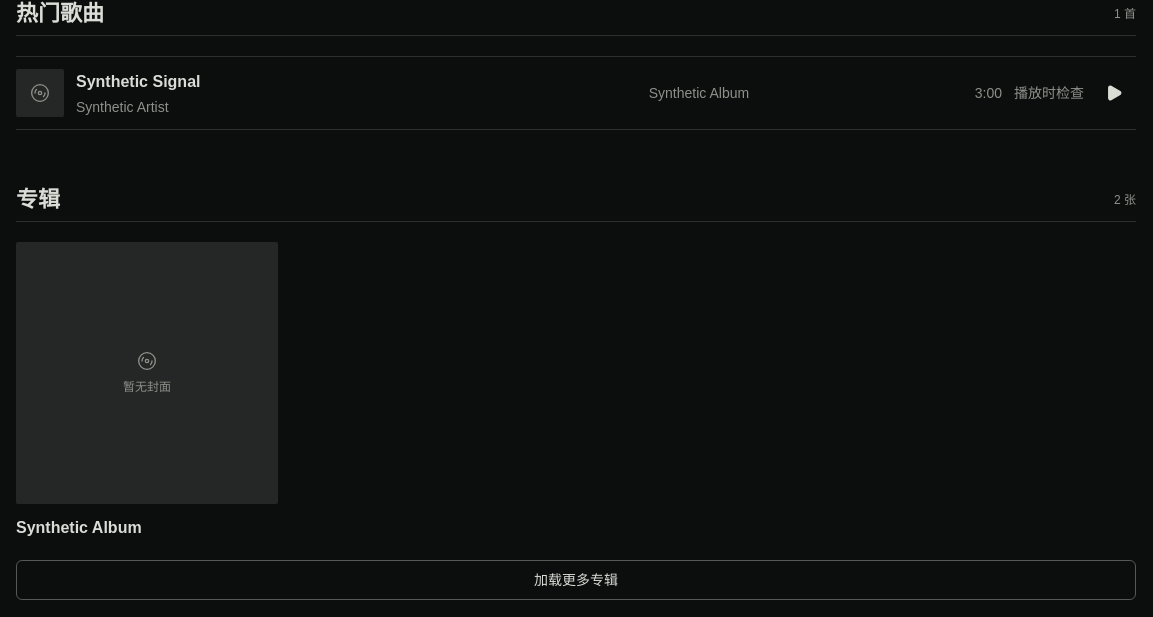
Test: CatalogDetailPage › preserves loaded artist albums while appending one distinct next page
This screenshot has width=1153, height=617.
(page scrolled)
Click the button "加载更多专辑" at (576, 580), box [16,560,1136,600]
(page scrolled)
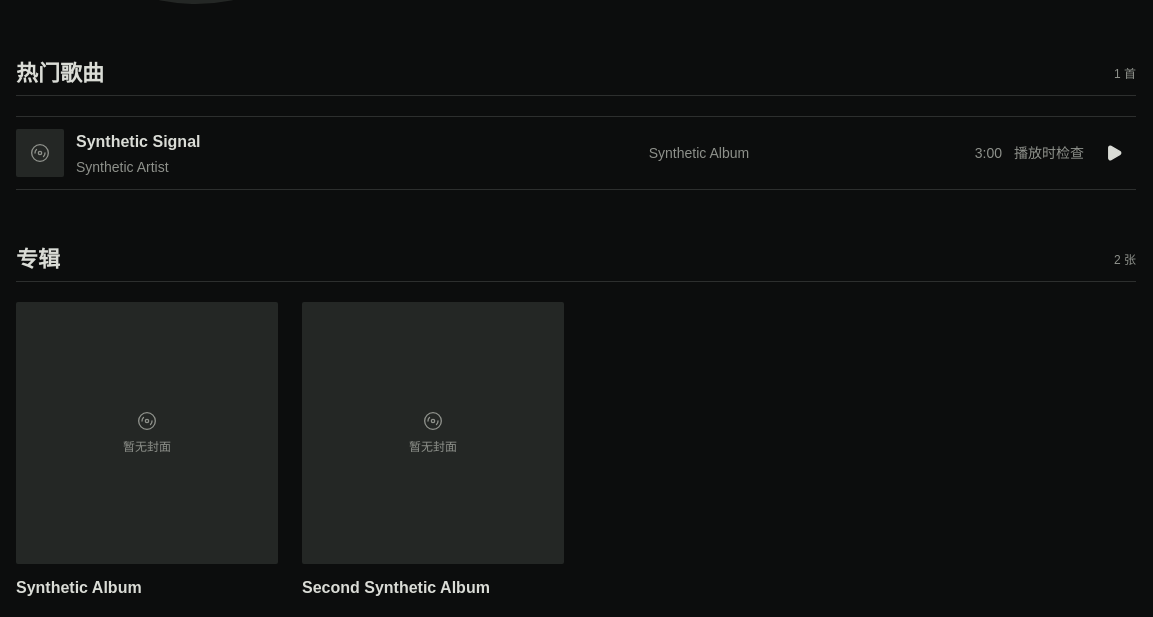
Expected: the link with aria-label "查看专辑 Synthetic Album" is shown, [16,302,278,600]
Now the link with aria-label "查看专辑 Second Synthetic Album" is shown, box [302,302,564,600]
